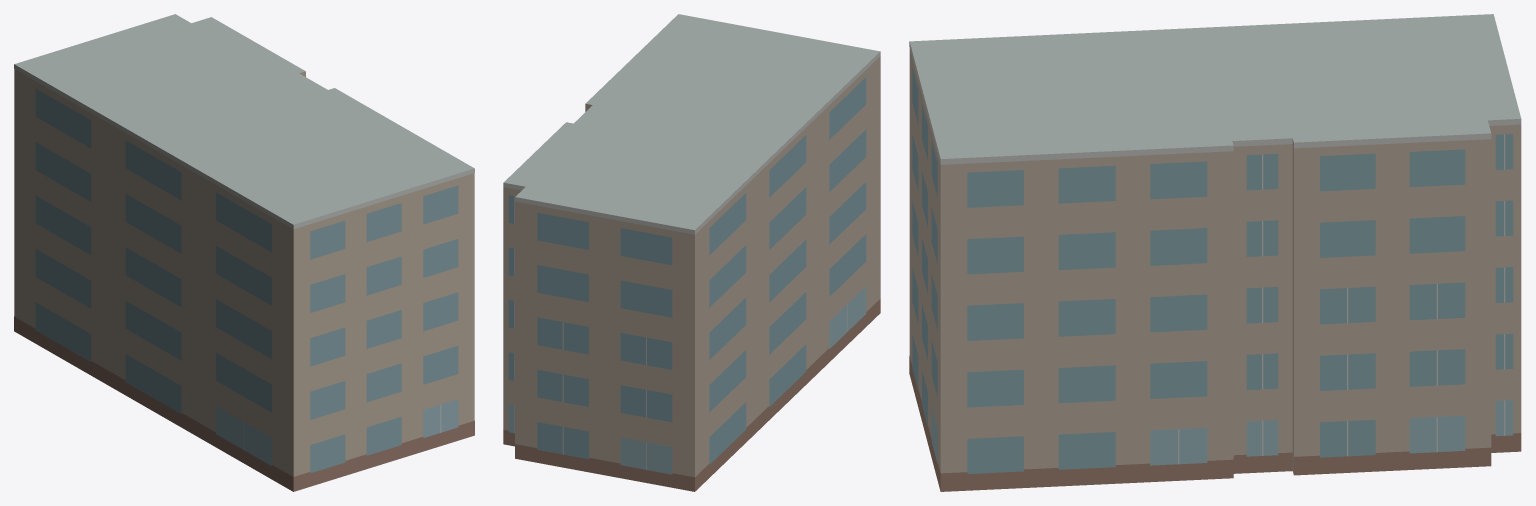
File: survey-upis-32924259.glb
The picture shows the model from 3 angles, left to right: view 1: azimuth 30°, elevation 25°; view 2: azimuth 150°, elevation 25°; view 3: azimuth 270°, elevation 25°; orthographic projection. The views are drawn at different scales.
Visible parts, largest first — view 1: survey-upis-32924259.tmp; view 2: survey-upis-32924259.tmp; view 3: survey-upis-32924259.tmp.
Boxes of the visible parts, x1,y1,x2,y2 form: survey-upis-32924259.tmp: [14, 14, 474, 491]; survey-upis-32924259.tmp: [503, 14, 880, 491]; survey-upis-32924259.tmp: [909, 14, 1521, 491].
Size of the model in its own units: 13.29 by 14.2 by 23.67.
